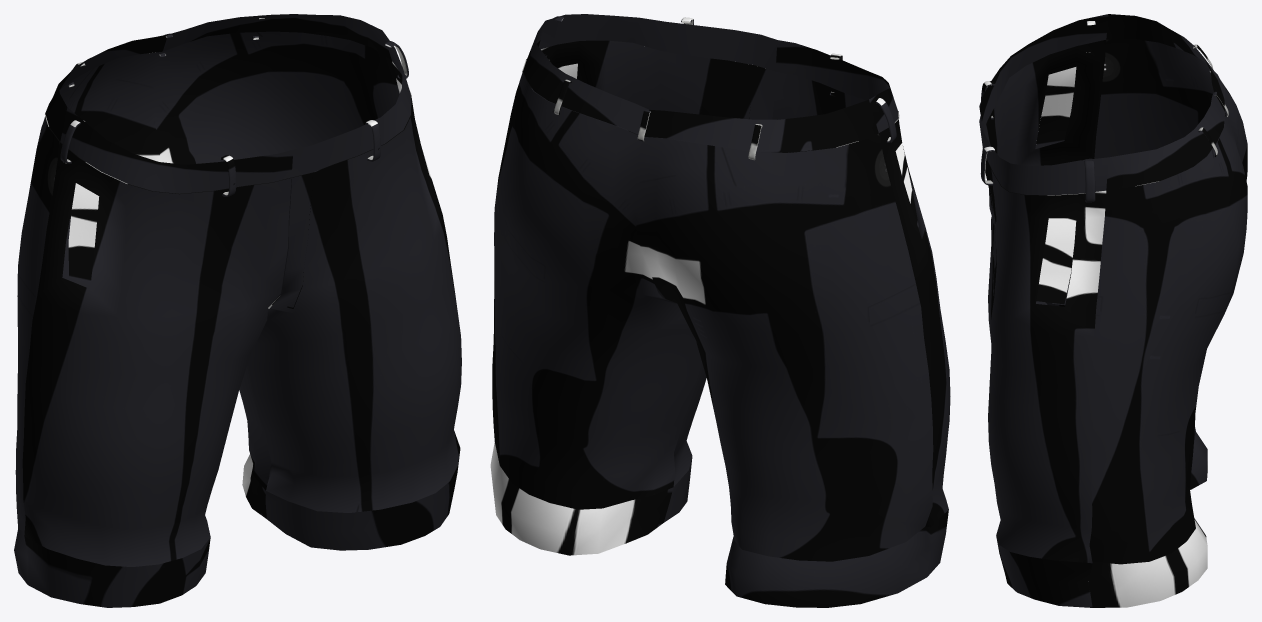
Rendered from holes.glb.
3 renders of one model, left to right at view 1: azimuth 30°, elevation 25°; view 2: azimuth 150°, elevation 25°; view 3: azimuth 270°, elevation 25°, orthographic. The views are drawn at different scales.
Visible parts, largest first — view 1: left_leg, right_leg, waist, left_leg_edge, right_leg_edge, left_pocket; view 2: left_leg, right_leg, waist, left_leg_edge, right_leg_edge; view 3: right_leg, left_leg, waist, right_leg_edge, right_pocket, left_pocket, left_leg_edge.
Part boxes in pixels (left/top/right/bottom): left_leg: left=15, top=52, right=291, bottom=566; right_leg: left=154, top=31, right=461, bottom=512; waist: left=45, top=14, right=411, bottom=308; left_leg_edge: left=14, top=528, right=210, bottom=607; right_leg_edge: left=242, top=450, right=460, bottom=550; left_pocket: left=68, top=183, right=99, bottom=284; left_leg: left=635, top=71, right=950, bottom=561; right_leg: left=492, top=40, right=775, bottom=509; waist: left=522, top=14, right=899, bottom=160; left_leg_edge: left=725, top=510, right=948, bottom=607; right_leg_edge: left=490, top=442, right=692, bottom=555; right_leg: left=982, top=114, right=1247, bottom=564; left_leg: left=983, top=39, right=1247, bottom=442; waist: left=979, top=14, right=1228, bottom=202; right_leg_edge: left=996, top=518, right=1207, bottom=607; right_pocket: left=1036, top=218, right=1076, bottom=304; left_pocket: left=1035, top=67, right=1076, bottom=148; left_leg_edge: left=1190, top=432, right=1207, bottom=489.
Bounding box in the file's own units: 0.3767 × 0.3994 × 0.2223.
Materials: 1 (1 with a texture image).
